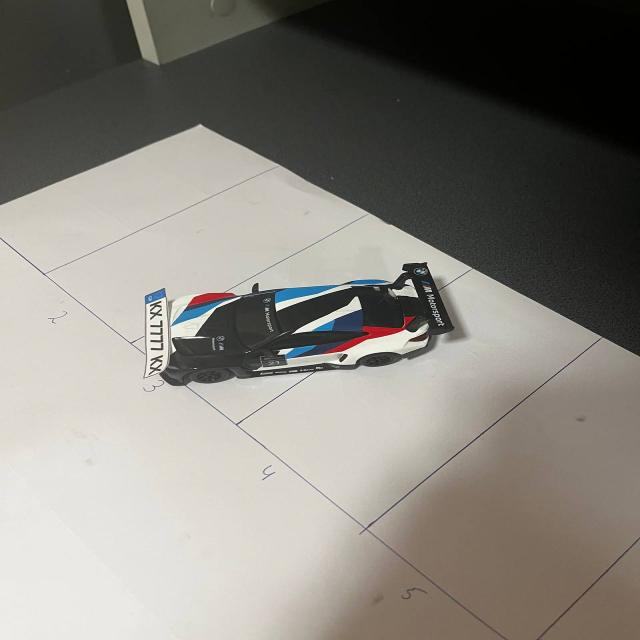cars: (127, 249, 484, 406)
